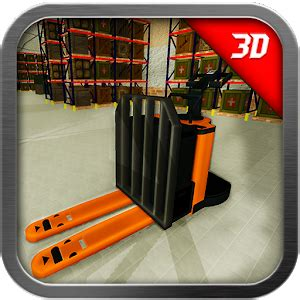Pallet Jack: (23, 69, 234, 277)
